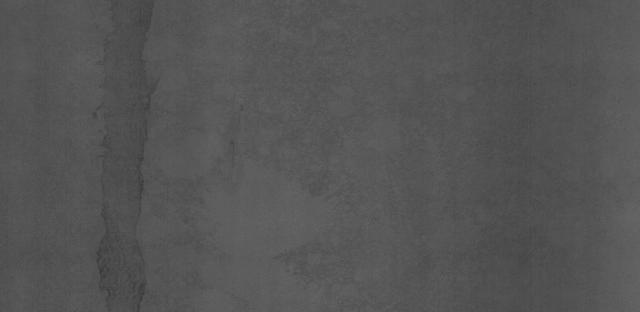water_spot: (84, 6, 175, 308)
